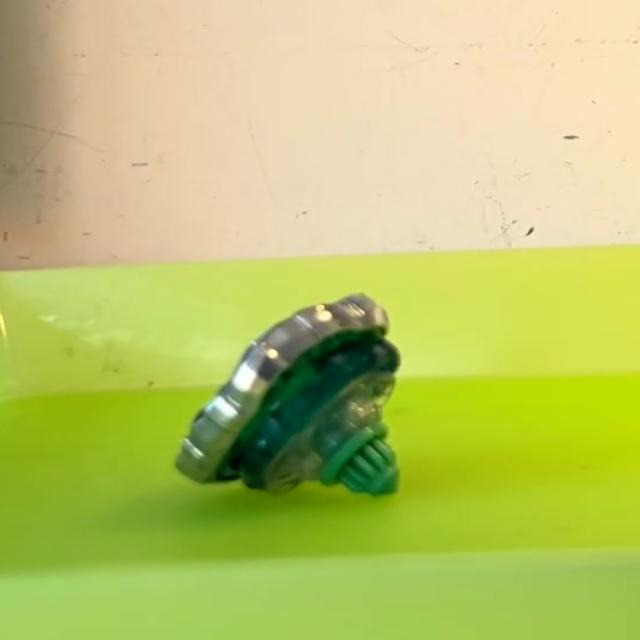Beyblade: (173, 292, 402, 500)
